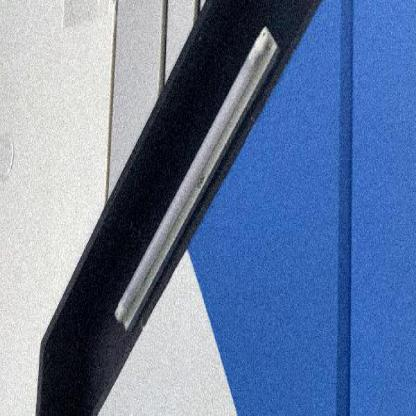light_off: (109, 17, 283, 347)
